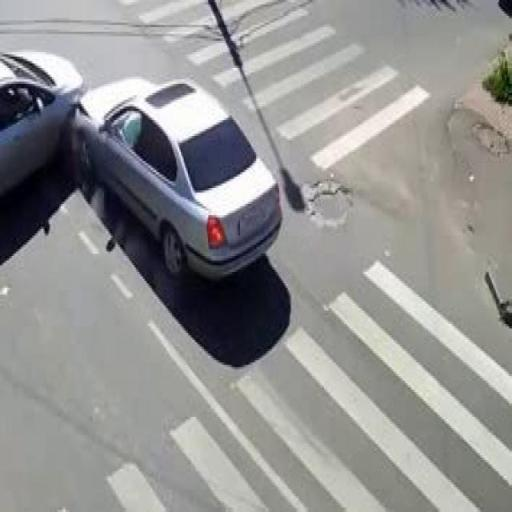小汽车: (66, 74, 292, 283), (0, 50, 82, 182)
